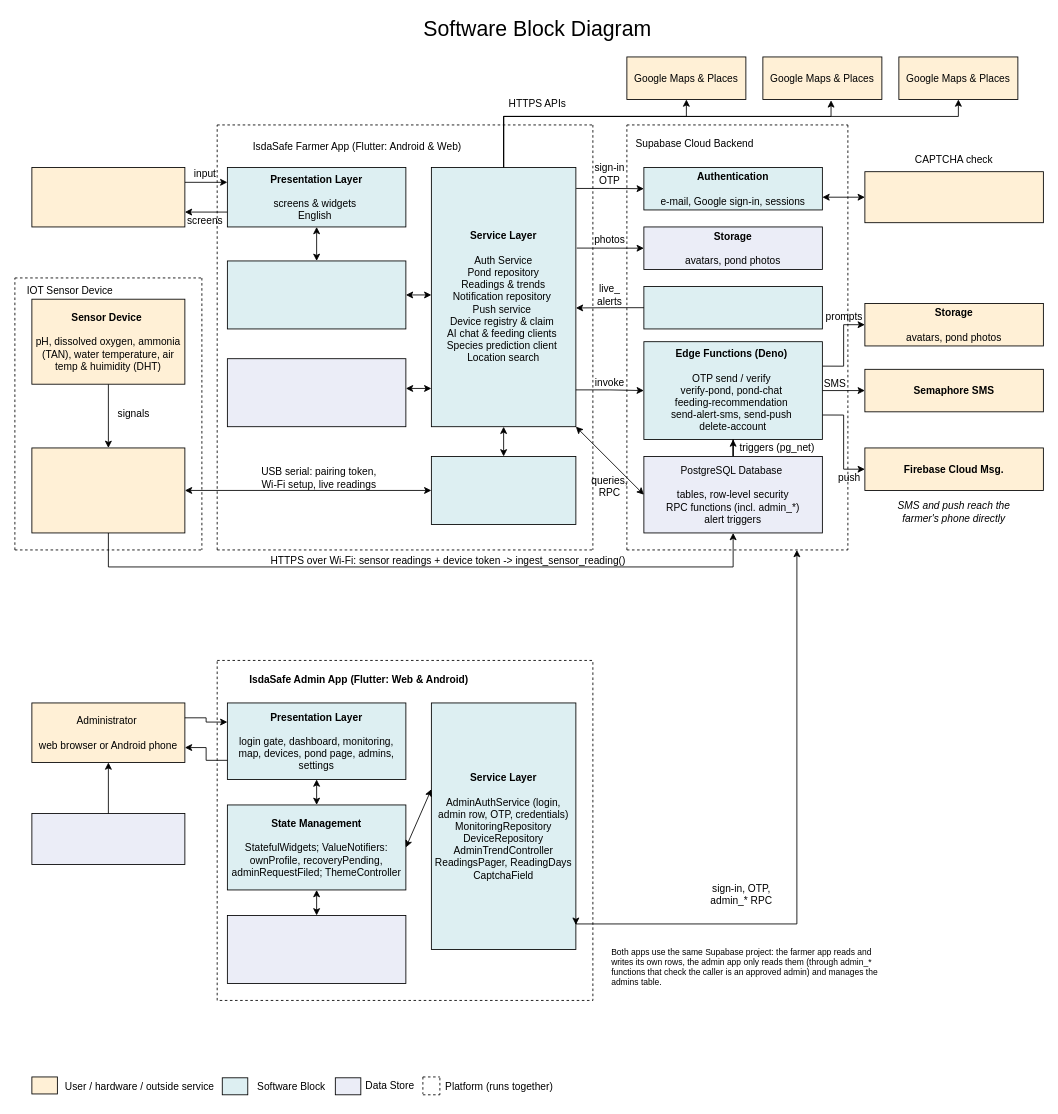
This 1058x1114 diagram has some shape labels left out. The shapes that lost their labels are listed below. From the top down, each one's centre as x and y in pixels, then its label:
At (108,197): "Fish Farmer Android phone or web browser".
At (953,197): "Cloudflare Turnstile (CAPTCHA)".
At (316,294): "State Management Providers (ChangeNotifier) ponds, dashboard, alerts, chat".
At (732,307): "Realtime live notification stream".
At (316,392): "Local Storage shared_preferences: settings & offline caches".
At (108,490): "ESP 32 Firmware reads probes, shows LCD, pairing, Wi-Fi setup, uploads readings".
At (503,490): "Device Link USB / Web Serial 115200 baud, line protocol".
At (108,838): "Hosting: Vercel web build + email-confirmed.html".
At (316,949): "Local Storage shared_preferences: light / dark / system theme".
